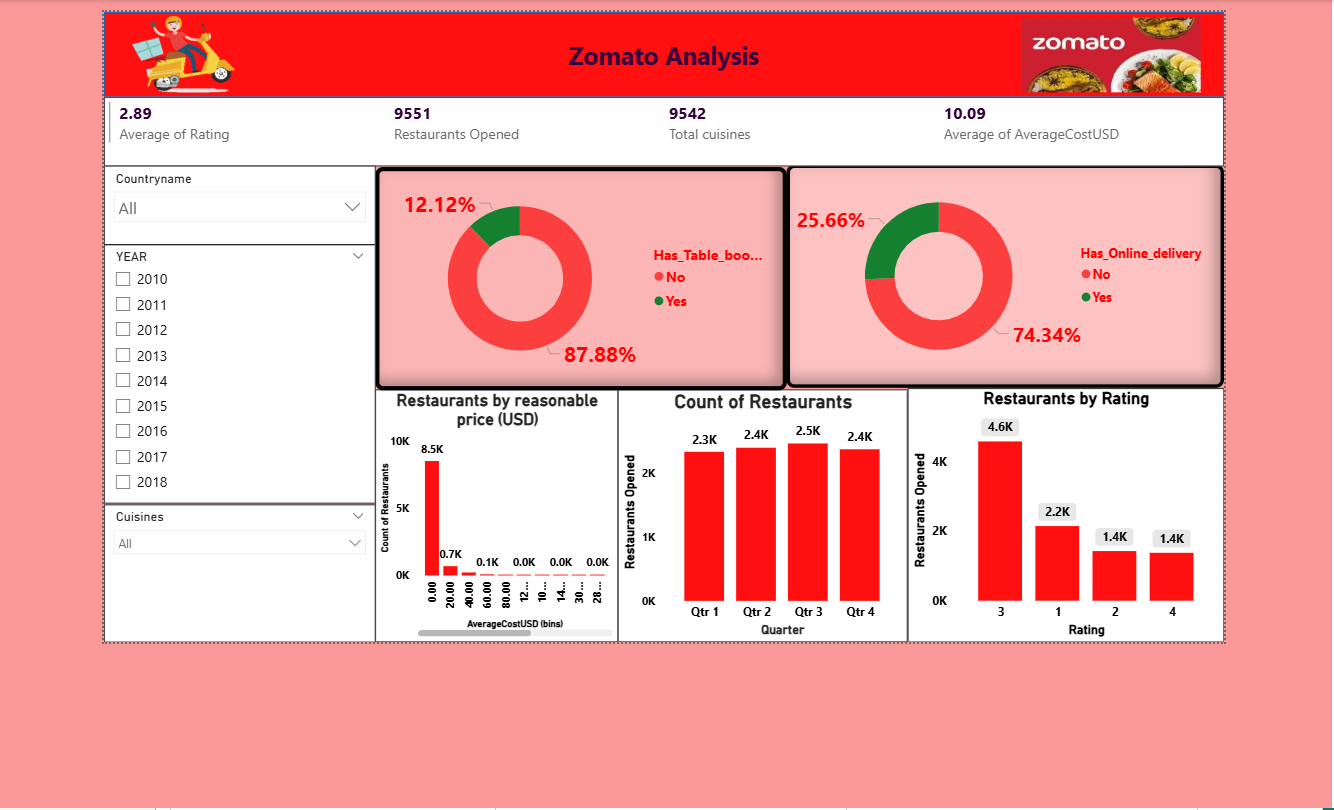

This screenshot's page, from the dashboard's own definition file:
{"tool":"tableau","page":{"name":"Zomato Dashboard","canvas":[1000,1000],"units":"permille","ordinal":0},"visuals":[{"type":"title","box":[4.8,10,990.3,113.6]},{"type":"image","param":"Image/Picture1.png","box":[6.7,15,348.5,103.6]},{"type":"image","param":"Image/Picture2.jpg","box":[768.1,17.5,223.4,97.4]},{"type":"worksheet","title":"Restaurants Opened","mark":"Automatic","box":[581.1,119.9,227.7,248.4]},{"type":"worksheet","title":"Average Rating","mark":"Automatic","box":[334.6,121.1,245.3,248.4]},{"type":"worksheet","title":"Restaurant Count by year, quarter, month","mark":"Automatic","rows":["RestaurantID"],"cols":["Date (Calendar)"],"box":[5.5,126.1,327.9,243.5]},{"type":"worksheet","title":"Restaurants by reasonable price(USD)","mark":"Automatic","rows":["RestaurantID"],"cols":["usd conversion (bin)"],"box":[334.3,364.5,295.1,268.4]},{"type":"filter","title":"Restaurant Count by year, quarter, month","param":"[federated.059zkyd1o69yb41dkhhzi0cy4kym].[none:Countryname:nk]","box":[0.6,369.5,333.9,178.5]},{"type":"filter","title":"Restaurant Count by year, quarter, month","param":"[federated.059zkyd1o69yb41dkhhzi0cy4kym].[none:Year:ok]","box":[2.4,444.4,326.1,104.9]},{"type":"worksheet","title":"Percentage of Restaurants on Table Booking","mark":"Pie","box":[1.8,546.8,331.5,455.7]}]}

Visuals, with their boxes on the dashboard's canvas, which has no fixed pixel size, in thousandths of its width and height (x1, y1, x2, y2). These are canvas units, not pixel positions in the 1334x810 screenshot, which may show the page scaled, cropped or inside an application window:
title: detection(5, 10, 995, 124)
image: detection(7, 15, 355, 119)
image: detection(768, 18, 992, 115)
"Restaurants Opened" worksheet: detection(581, 120, 809, 368)
"Average Rating" worksheet: detection(335, 121, 580, 370)
"Restaurant Count by year, quarter, month" worksheet: detection(6, 126, 333, 370)
"Restaurants by reasonable price(USD)" worksheet: detection(334, 364, 629, 633)
"Restaurant Count by year, quarter, month" filter: detection(1, 370, 334, 548)
"Restaurant Count by year, quarter, month" filter: detection(2, 444, 328, 549)
"Percentage of Restaurants on Table Booking" worksheet (Pie marks): detection(2, 547, 333, 1002)
